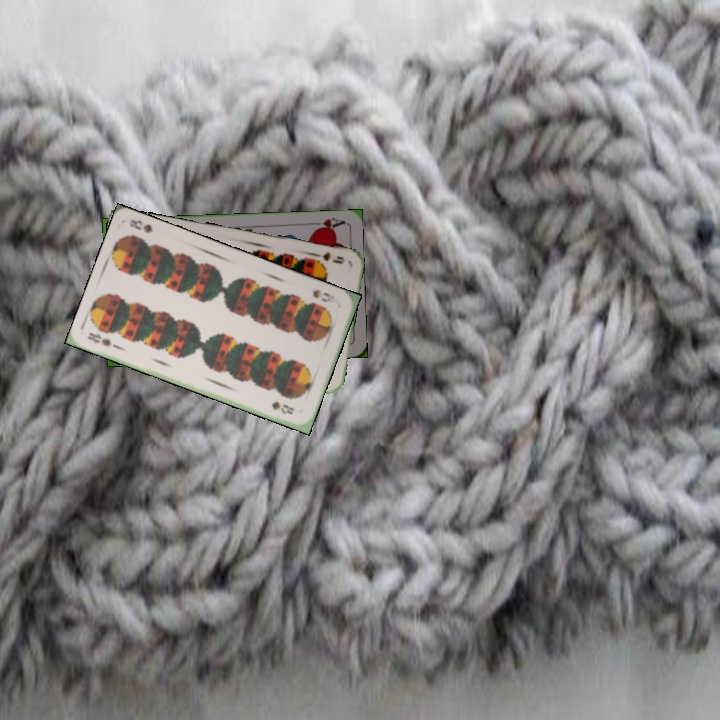HA: (306, 213, 346, 234)
S8: (83, 328, 123, 352), (309, 285, 342, 305)
S9: (308, 248, 347, 266)
